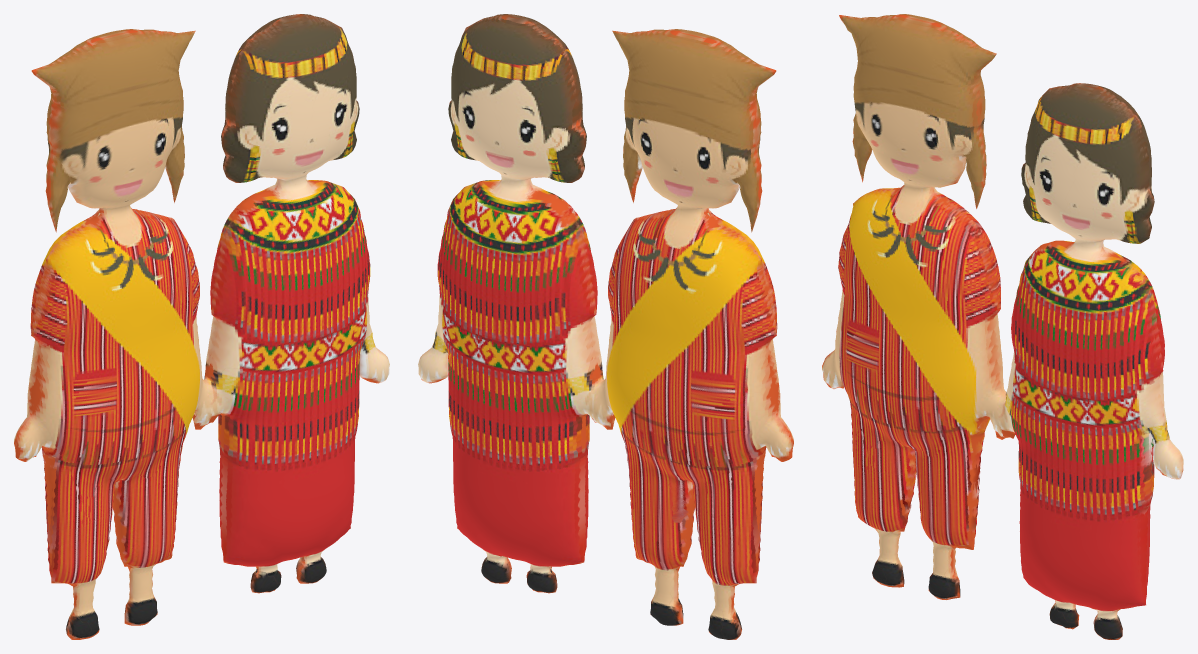
File: sulawesi_adat_toraja.glb
3 views of the same model, side by side, from view 1: azimuth 30°, elevation 25°; view 2: azimuth 150°, elevation 25°; view 3: azimuth 330°, elevation 25° (orthographic). The views are drawn at different scales.
Visible parts, largest first — view 1: Object_5; view 2: Object_5; view 3: Object_5.
Boxes of the visible parts, x1,y1,x2,y2 form: Object_5: (14,14,389,639); Object_5: (418,14,793,639); Object_5: (822,14,1183,639).
Bounding box in the file's own units: 0.2467 × 0.3741 × 0.0514.
1 material, 1 textured.
